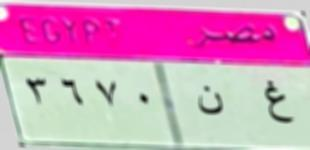0: (133, 82, 159, 112)
3: (26, 73, 51, 109)
6: (60, 73, 85, 110)
7: (91, 72, 123, 111)
ghayn: (256, 77, 295, 130)
noon: (193, 84, 227, 121)
